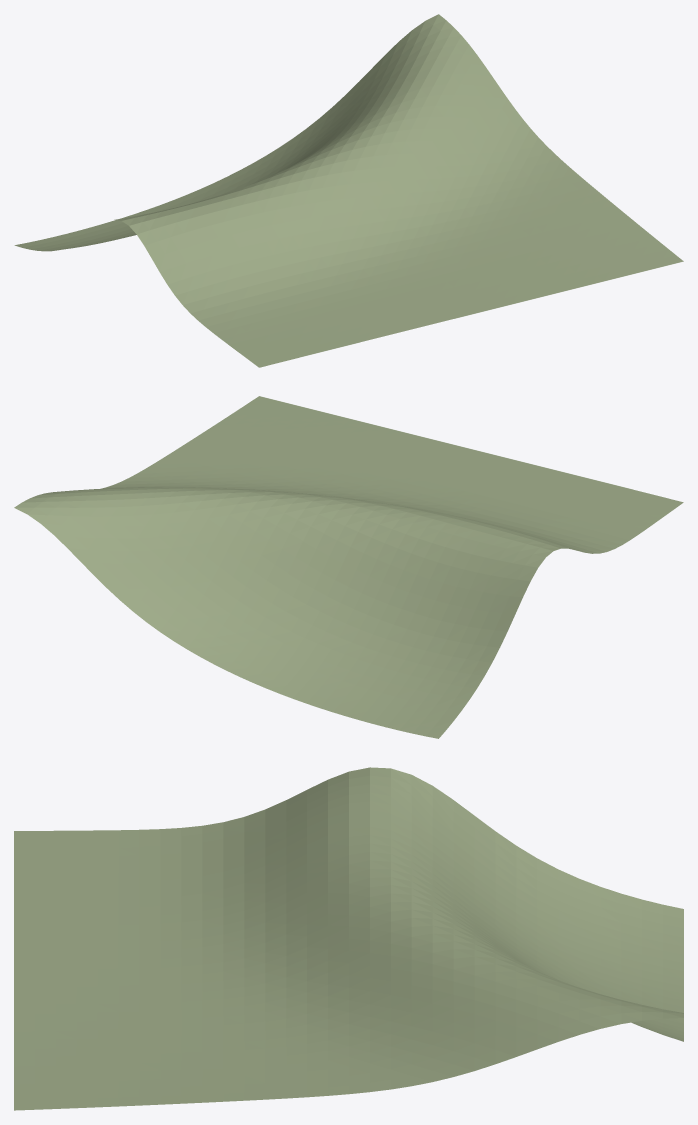
Rendered from lunar-1-5.glb.
3 renders of one model, top to bottom at view 1: azimuth 30°, elevation 25°; view 2: azimuth 150°, elevation 25°; view 3: azimuth 270°, elevation 25°, orthographic. The views are drawn at different scales.
Visible parts, largest first — view 1: lunar-1-5; view 2: lunar-1-5; view 3: lunar-1-5.
Boxes of the visible parts, left/top/right/bottom form: lunar-1-5: left=14, top=14, right=683, bottom=367; lunar-1-5: left=14, top=396, right=683, bottom=738; lunar-1-5: left=14, top=767, right=683, bottom=1110.
Size of the model in its own units: 128 by 37.11 by 128.
